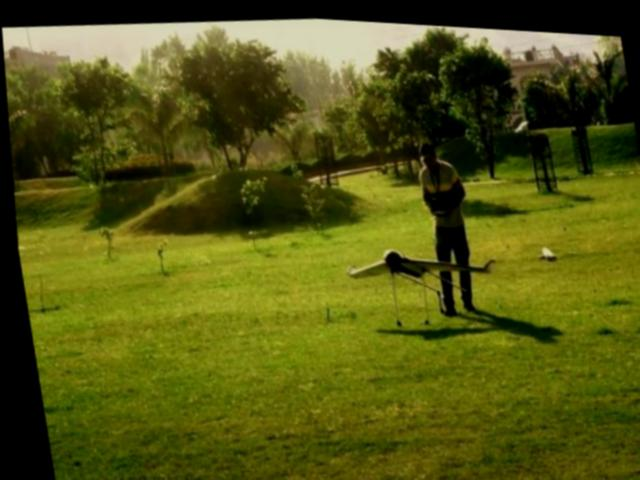iha: (340, 231, 494, 281)
